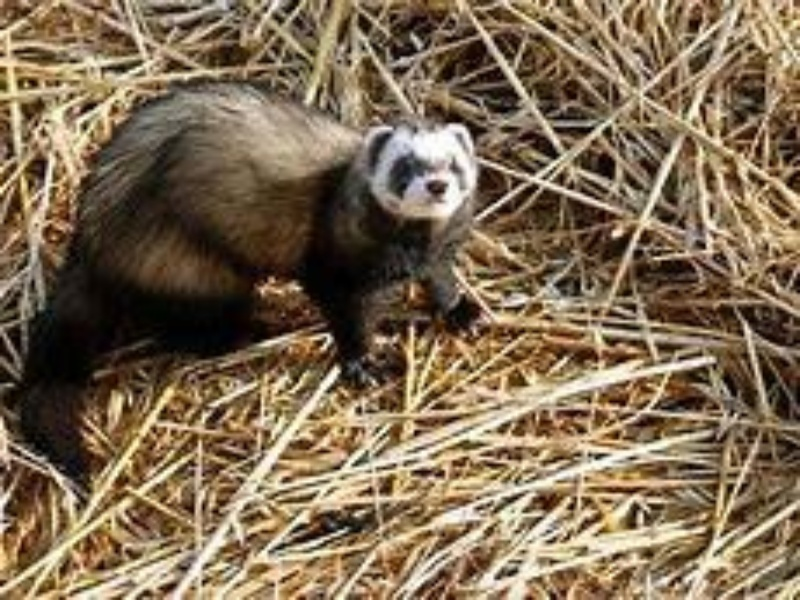minkish: (19, 75, 483, 468)
